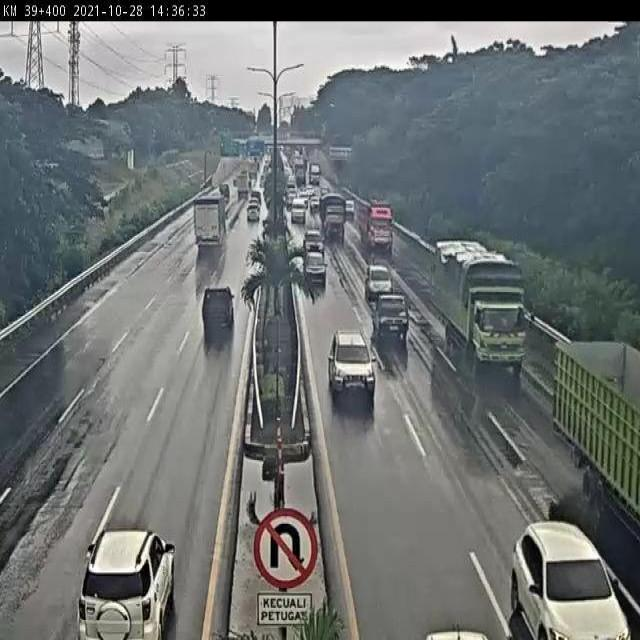big truck: (552, 326, 640, 502), (435, 233, 537, 363), (199, 188, 230, 271), (360, 206, 397, 242), (323, 198, 345, 238)
car: (506, 516, 638, 640), (81, 526, 183, 626), (326, 335, 379, 400), (199, 282, 243, 346), (376, 295, 407, 340), (365, 260, 398, 292), (305, 252, 326, 283), (289, 202, 310, 222), (305, 228, 321, 252), (246, 203, 263, 220), (346, 198, 355, 225)
